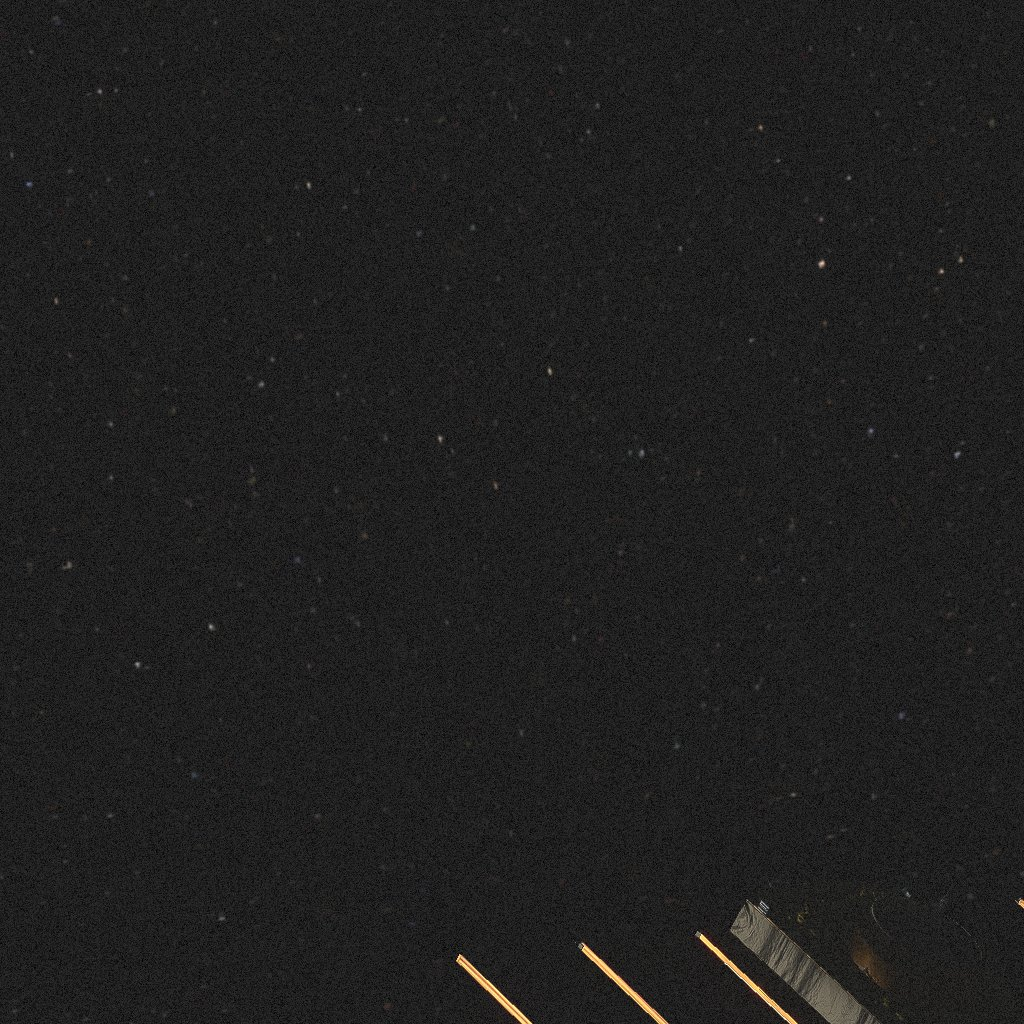soho: (456, 877, 1024, 1024)
